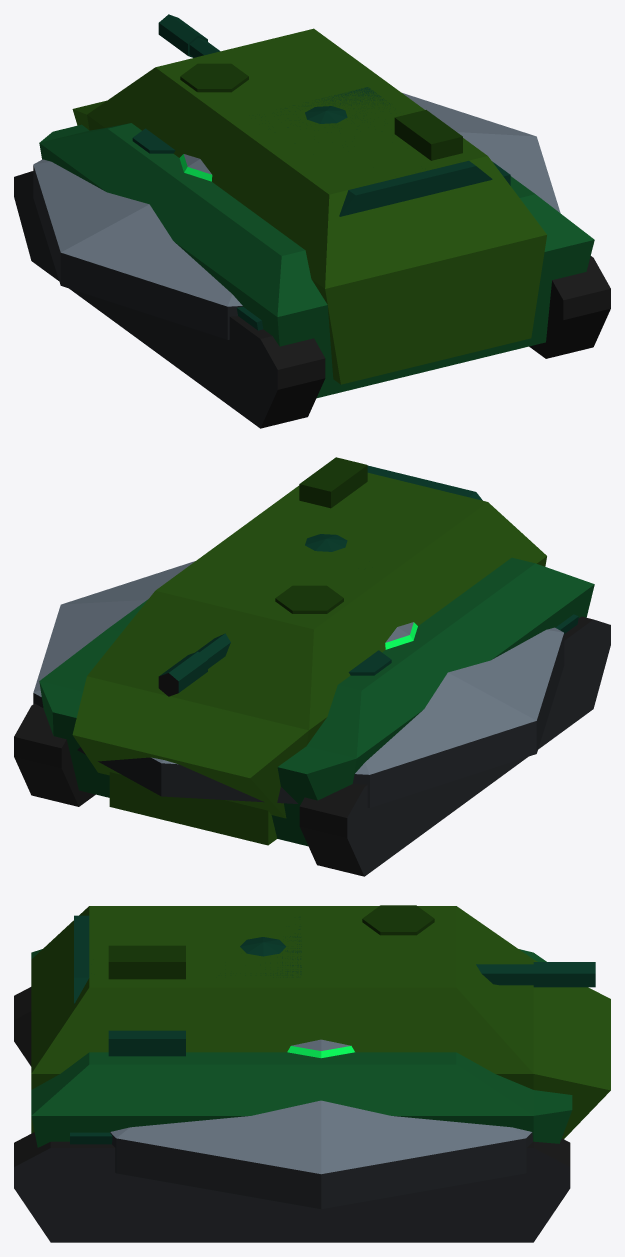
File: vehicles.glb
3 views of the same model, one above another, from view 1: azimuth 30°, elevation 25°; view 2: azimuth 150°, elevation 25°; view 3: azimuth 270°, elevation 25° (orthographic). The views are drawn at different scales.
Visible parts, largest first — view 1: APC, Tank, UFO, MRL_launcher, Tank_cannon; view 2: APC, Tank, UFO, MRL, Tank_cannon, MRL_launcher; view 3: APC, Tank, UFO, Tank_cannon, MRL_launcher.
Part boxes in pixels (x1=…): APC: x1=72, y1=28, x2=546, y2=384; Tank: x1=14, y1=123, x2=610, y2=428; UFO: x1=33, y1=93, x2=560, y2=339; MRL_launcher: x1=261, y1=87, x2=492, y2=216; Tank_cannon: x1=158, y1=14, x2=347, y2=123; APC: x1=72, y1=457, x2=546, y2=818; Tank: x1=14, y1=557, x2=610, y2=876; UFO: x1=33, y1=561, x2=564, y2=807; MRL: x1=109, y1=772, x2=277, y2=845; Tank_cannon: x1=158, y1=534, x2=347, y2=696; MRL_launcher: x1=367, y1=465, x2=482, y2=500; APC: x1=31, y1=905, x2=610, y2=1138; Tank: x1=14, y1=949, x2=572, y2=1242; UFO: x1=110, y1=1039, x2=563, y2=1209; Tank_cannon: x1=240, y1=937, x2=595, y2=987; MRL_launcher: x1=74, y1=915, x2=301, y2=1003.
Size of the model in its own units: 3 by 1.4 by 3.09.
Materials: 1 (1 with a texture image).
